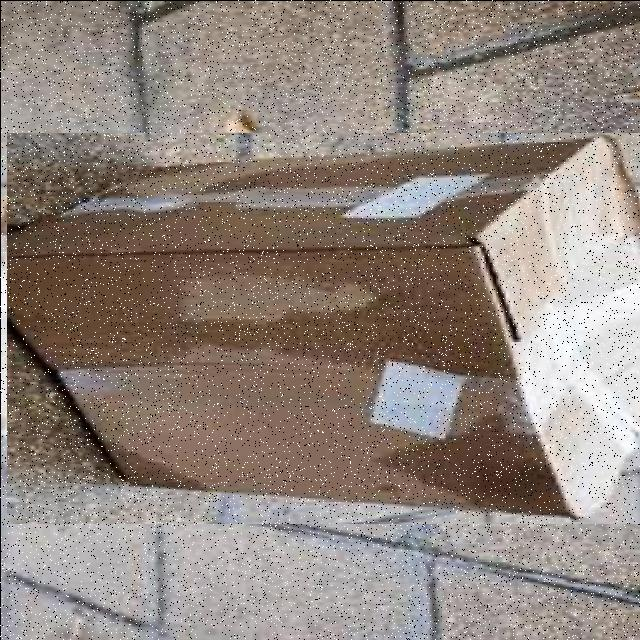defect: (6, 132, 640, 523)
